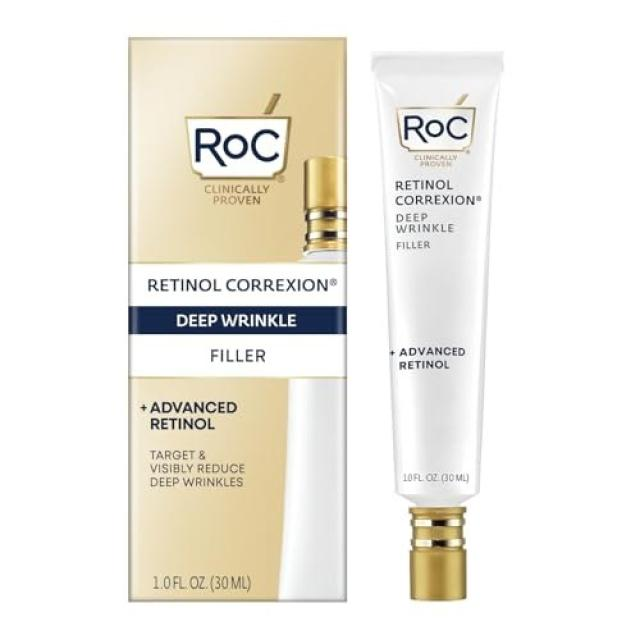food-supliment: (131, 44, 338, 598)
medicine: (384, 70, 480, 504)
